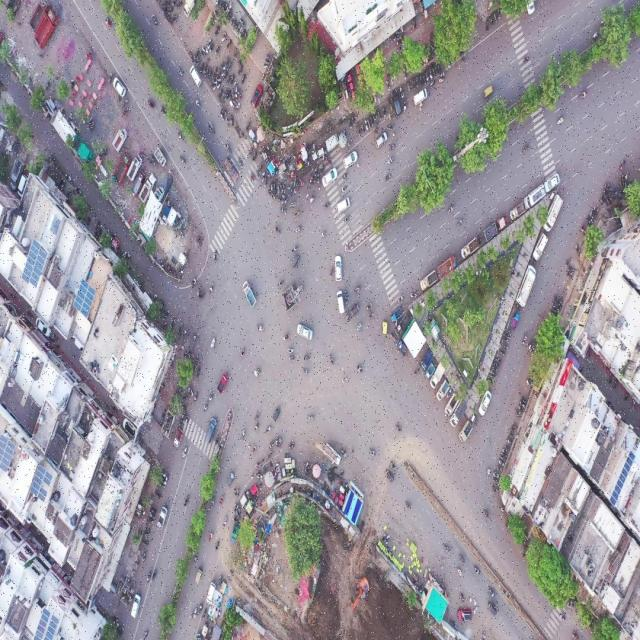3W: (288, 253, 305, 270), (481, 83, 494, 101), (379, 318, 388, 340), (487, 599, 497, 618), (194, 566, 203, 587), (273, 406, 283, 422), (350, 302, 360, 318), (384, 467, 393, 484)
Cars: (222, 154, 240, 183), (294, 321, 314, 343), (204, 414, 217, 444), (250, 84, 264, 110), (534, 233, 547, 259), (479, 390, 492, 416), (335, 195, 351, 215), (322, 168, 338, 188), (188, 66, 202, 88), (334, 252, 343, 284), (544, 174, 560, 192), (344, 150, 359, 169), (114, 77, 128, 97), (413, 88, 428, 106), (392, 90, 402, 117), (335, 290, 345, 316), (455, 609, 474, 622), (376, 132, 388, 150), (225, 470, 235, 489)
LCV: (517, 266, 537, 307), (542, 195, 562, 231), (240, 278, 262, 308), (418, 267, 440, 295), (524, 183, 546, 209), (437, 255, 457, 279), (508, 199, 527, 224), (459, 238, 478, 262), (445, 389, 458, 422), (127, 155, 143, 181), (430, 362, 445, 388), (112, 126, 127, 151), (157, 504, 170, 530), (325, 132, 341, 151), (420, 351, 433, 374), (458, 420, 472, 440), (397, 314, 410, 335), (154, 145, 166, 167), (172, 428, 185, 448), (436, 380, 448, 400), (218, 371, 228, 394), (390, 307, 403, 323), (510, 311, 520, 331), (425, 362, 435, 382), (396, 340, 408, 356)
M2W: (402, 498, 414, 512), (146, 99, 157, 113), (319, 228, 328, 244), (327, 352, 336, 368), (368, 445, 378, 459), (472, 563, 482, 577), (182, 493, 191, 508), (482, 506, 489, 525), (178, 153, 186, 169), (159, 104, 167, 120), (193, 96, 202, 110), (554, 115, 565, 126), (150, 12, 158, 27), (213, 21, 221, 36), (294, 224, 304, 236), (140, 549, 147, 566), (207, 121, 216, 134), (455, 564, 464, 577), (458, 591, 467, 604), (257, 320, 264, 336), (207, 529, 214, 545), (488, 586, 496, 600), (221, 28, 228, 44), (578, 90, 588, 101), (175, 66, 184, 78), (355, 364, 364, 376), (307, 415, 316, 427), (444, 542, 451, 557), (394, 420, 402, 433), (618, 157, 626, 170), (182, 443, 188, 460), (322, 200, 332, 210), (249, 171, 256, 185), (274, 224, 282, 236), (282, 332, 290, 344), (221, 515, 229, 527), (575, 241, 581, 257), (240, 72, 247, 85), (240, 346, 247, 359), (289, 198, 298, 208), (386, 156, 396, 165), (449, 618, 458, 628), (208, 389, 214, 404), (390, 460, 398, 471), (456, 217, 464, 228), (226, 36, 232, 50), (254, 366, 261, 378), (288, 354, 295, 366), (253, 410, 260, 422), (213, 541, 220, 553), (521, 335, 528, 347), (202, 398, 208, 412), (209, 336, 216, 348), (208, 283, 215, 295), (212, 249, 218, 263), (236, 155, 242, 169), (176, 132, 185, 141), (303, 353, 312, 362), (255, 422, 263, 432), (267, 439, 275, 449), (355, 322, 363, 332), (364, 302, 372, 312), (522, 144, 530, 154), (192, 607, 198, 620), (551, 294, 557, 307), (244, 120, 250, 133), (240, 429, 247, 440), (564, 256, 571, 267), (146, 569, 151, 584), (422, 72, 427, 87), (215, 45, 221, 57), (251, 444, 257, 456), (218, 494, 224, 506), (458, 552, 464, 564), (343, 216, 352, 224), (447, 204, 455, 213), (355, 125, 361, 137), (247, 146, 253, 158), (238, 64, 244, 76), (142, 530, 151, 538), (140, 539, 149, 547), (224, 142, 231, 152), (303, 365, 310, 375), (152, 568, 157, 582), (523, 53, 530, 63), (559, 613, 566, 623), (489, 16, 494, 30), (224, 55, 230, 66), (329, 265, 334, 278), (398, 294, 406, 302), (384, 173, 392, 181), (341, 172, 349, 180), (278, 206, 286, 214), (286, 347, 294, 355), (525, 378, 533, 386), (291, 244, 298, 253), (389, 143, 396, 152), (293, 208, 300, 217), (277, 279, 284, 288), (428, 80, 435, 89), (499, 454, 506, 463), (509, 424, 516, 433), (501, 342, 508, 351), (221, 107, 228, 116), (266, 424, 272, 434), (310, 193, 316, 203), (345, 312, 350, 324), (251, 151, 257, 161), (234, 48, 239, 60), (152, 493, 162, 499), (199, 600, 203, 614), (354, 286, 361, 294), (386, 124, 394, 131), (410, 290, 417, 298), (571, 632, 579, 639), (504, 444, 511, 452), (508, 432, 515, 440), (494, 356, 502, 363), (264, 175, 268, 189), (238, 88, 242, 102), (213, 68, 217, 82), (193, 392, 198, 403), (386, 80, 391, 91), (586, 216, 591, 227), (219, 112, 224, 123), (226, 75, 231, 86), (498, 349, 504, 358), (568, 265, 574, 274), (146, 157, 152, 166), (344, 289, 348, 302), (351, 114, 355, 127), (364, 118, 368, 131), (386, 95, 390, 108), (403, 99, 407, 112), (412, 77, 416, 90), (432, 65, 436, 78), (400, 86, 404, 99), (218, 86, 222, 99), (295, 180, 299, 193), (368, 312, 373, 322), (369, 116, 374, 126), (581, 224, 586, 234), (230, 74, 235, 84), (299, 177, 304, 187), (565, 272, 572, 279), (342, 184, 348, 192), (121, 99, 129, 105), (122, 107, 128, 115), (348, 118, 352, 130), (428, 67, 432, 79), (437, 64, 441, 76), (378, 110, 382, 122), (485, 18, 488, 34), (493, 12, 497, 24), (478, 232, 482, 244), (515, 407, 519, 419), (550, 308, 558, 314), (316, 172, 320, 184), (234, 81, 238, 93), (288, 181, 294, 189), (276, 184, 280, 196), (261, 172, 265, 184), (151, 154, 155, 166), (211, 497, 216, 506), (282, 194, 287, 203), (108, 72, 112, 83), (196, 48, 200, 59), (213, 81, 217, 92), (320, 164, 324, 175), (282, 183, 286, 194), (361, 122, 364, 136), (518, 405, 524, 412), (496, 466, 503, 472), (518, 401, 525, 407), (200, 50, 207, 56), (151, 507, 157, 514), (505, 439, 513, 444), (267, 186, 271, 196), (228, 62, 232, 72), (210, 42, 214, 52), (208, 70, 212, 80), (288, 189, 293, 197), (258, 165, 262, 175), (382, 106, 385, 119), (367, 118, 370, 130), (374, 122, 377, 134), (491, 366, 497, 372), (230, 114, 233, 126), (207, 37, 210, 49), (202, 46, 208, 52), (493, 472, 498, 479), (138, 152, 145, 157), (218, 78, 221, 89), (407, 82, 410, 92), (273, 183, 276, 193), (280, 183, 283, 193), (420, 74, 422, 88), (498, 461, 503, 466), (416, 75, 418, 87)
Truck: (35, 8, 59, 52), (113, 152, 129, 185), (141, 173, 157, 200)
